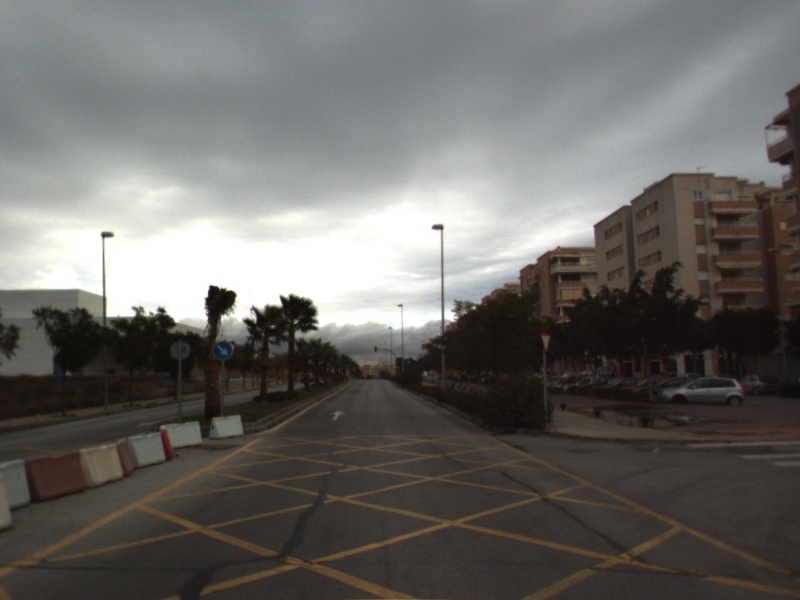STRAIGHT: (329, 408, 347, 422)
